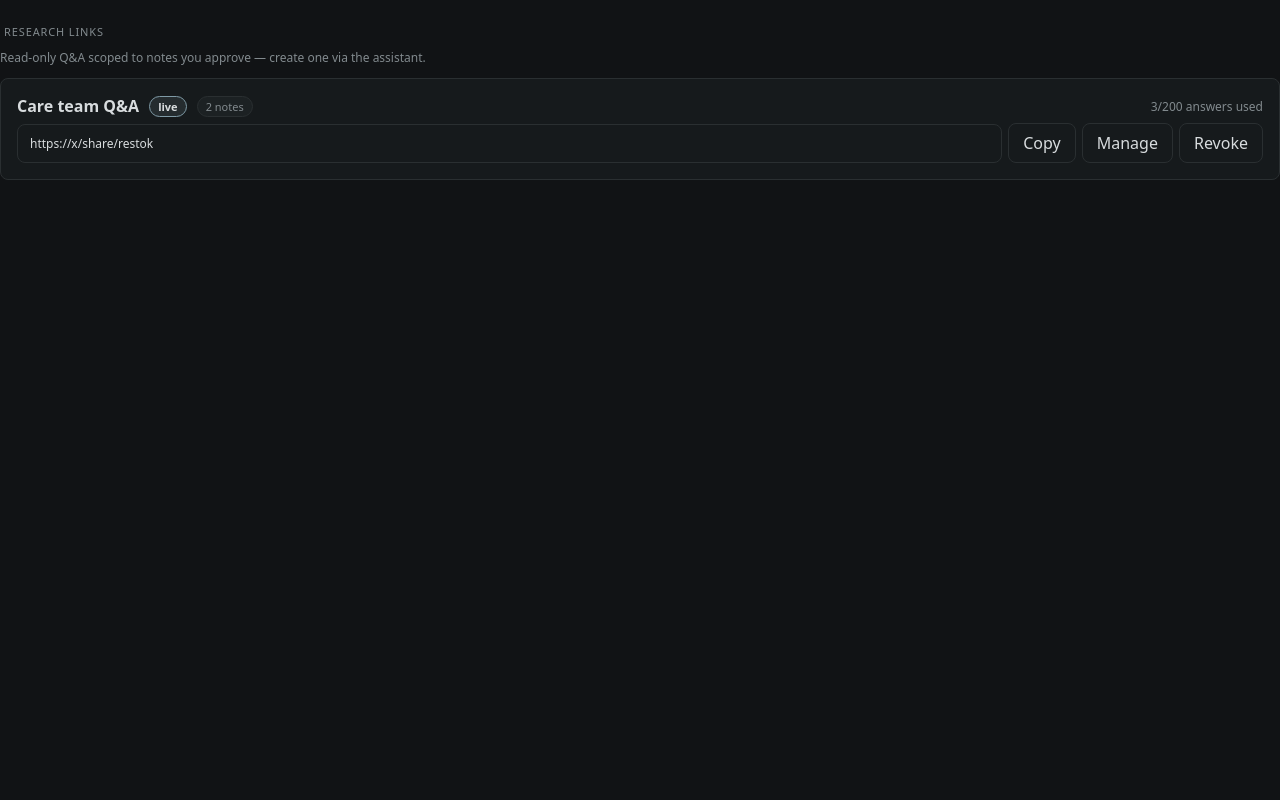
Scenario: ResearchLinks — Manage modal › shows a loading placeholder, then a 'no candidates' empty state
What coordinates should you click on to do the following:
click the button "Manage"
I would click on:
 (1127, 143)
Its box is [1082, 123, 1173, 163].
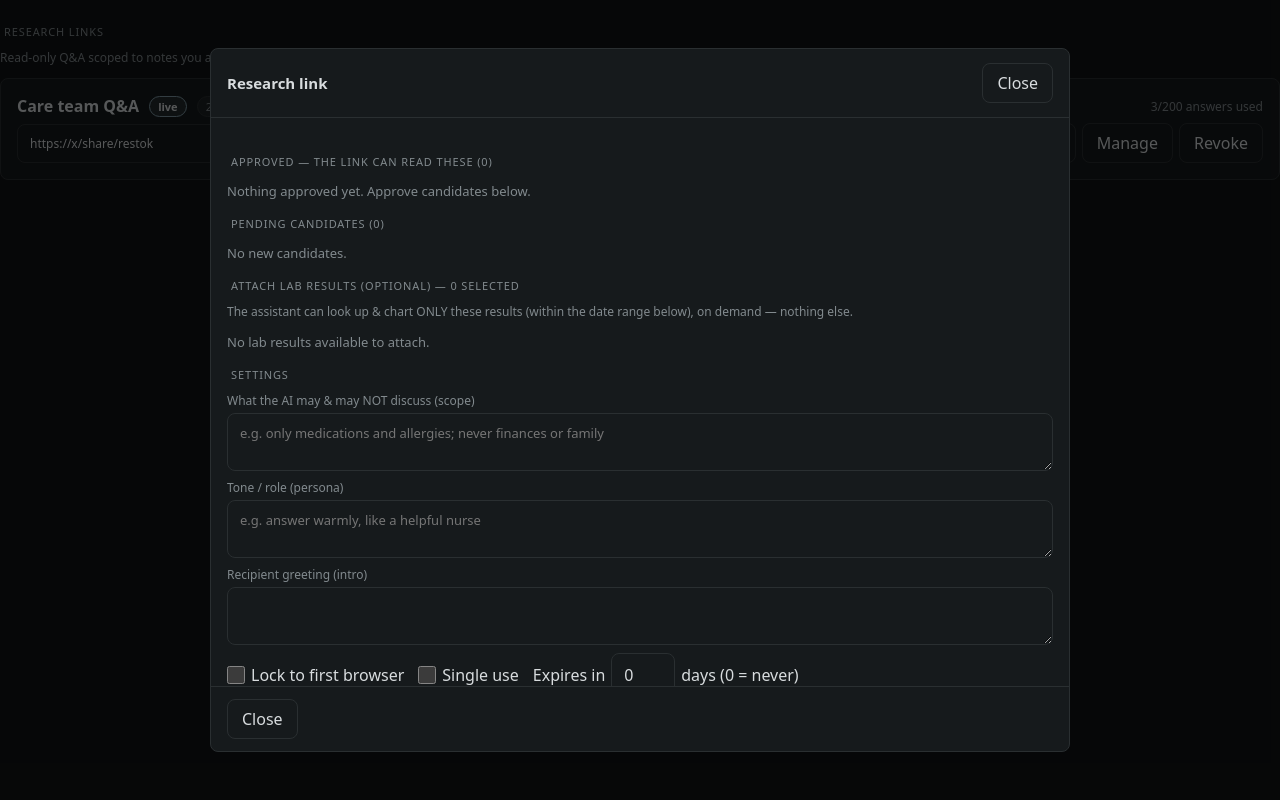
Result: the text "No new candidates." is shown at [227, 244, 347, 262]
Result: the text "Nothing approved yet. Approve candidates below." is shown at [227, 182, 531, 200]
